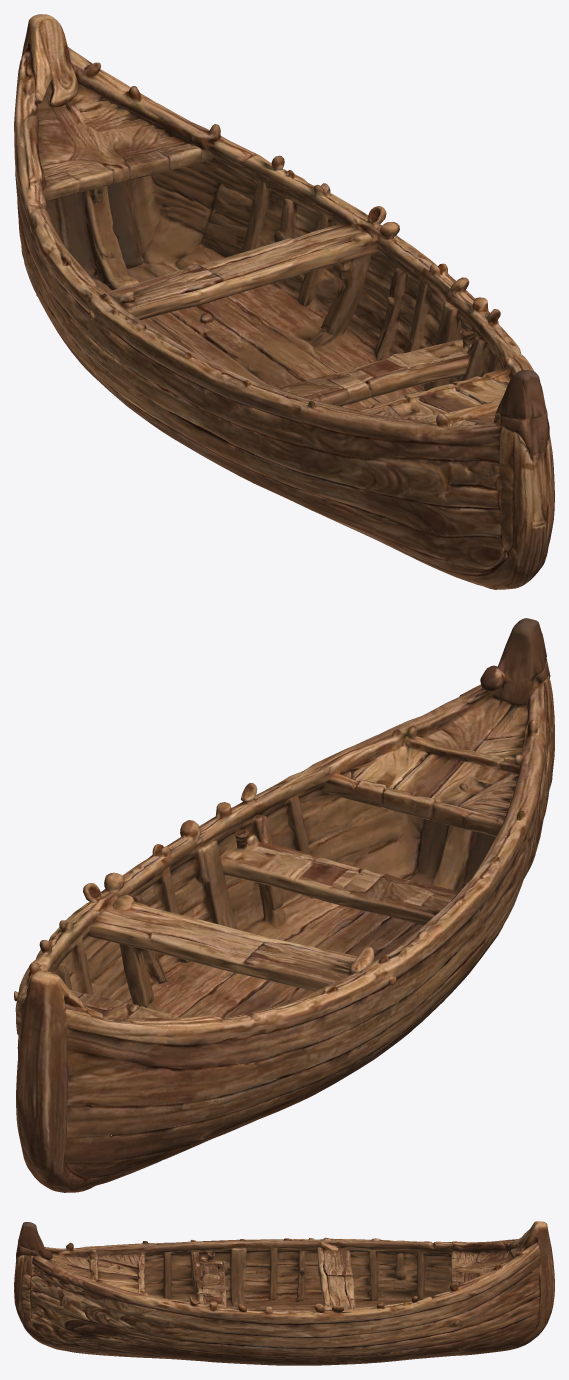
File: canoe-detailed-low.glb
3 renders of one model, top to bottom at view 1: azimuth 30°, elevation 25°; view 2: azimuth 150°, elevation 25°; view 3: azimuth 270°, elevation 25°, orthographic. The views are drawn at different scales.
Visible parts, largest first — view 1: tripo_node_eb005ef2-dc12-431f-a0be-f2211c7a637f; view 2: tripo_node_eb005ef2-dc12-431f-a0be-f2211c7a637f; view 3: tripo_node_eb005ef2-dc12-431f-a0be-f2211c7a637f.
Part boxes in pixels (<box>): tripo_node_eb005ef2-dc12-431f-a0be-f2211c7a637f: <box>14,14,554,589</box>; tripo_node_eb005ef2-dc12-431f-a0be-f2211c7a637f: <box>14,618,554,1192</box>; tripo_node_eb005ef2-dc12-431f-a0be-f2211c7a637f: <box>14,1221,554,1365</box>.
Size of the model in its own units: 0.3343 by 0.2601 by 0.9792.
Materials: 1 (1 with a texture image).
